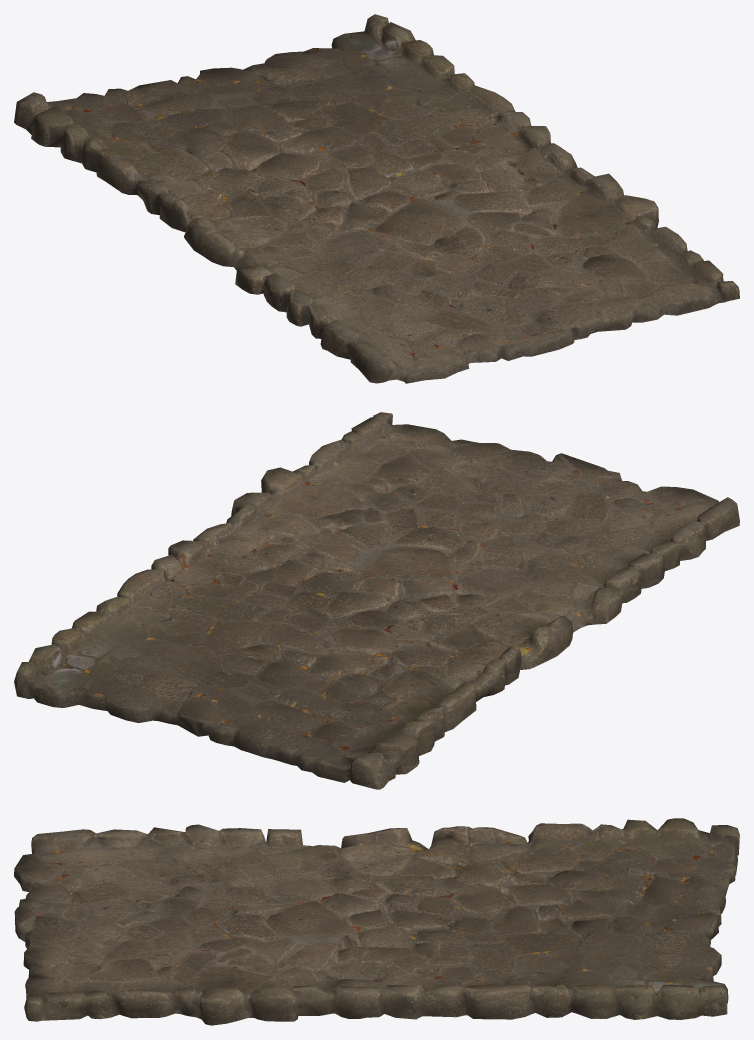
File: japanese_park_stone_floor_uljcfd0_low.glb
3 views of the same model, one above another, from view 1: azimuth 30°, elevation 25°; view 2: azimuth 150°, elevation 25°; view 3: azimuth 270°, elevation 25° (orthographic). The views are drawn at different scales.
Visible parts, largest first — view 1: uljcfd0_LOD0_TIER3_000; view 2: uljcfd0_LOD0_TIER3_000; view 3: uljcfd0_LOD0_TIER3_000.
Part boxes in pixels (x1=…): uljcfd0_LOD0_TIER3_000: x1=14, y1=14, x2=739, y2=383; uljcfd0_LOD0_TIER3_000: x1=14, y1=412, x2=739, y2=789; uljcfd0_LOD0_TIER3_000: x1=14, y1=818, x2=739, y2=1025.
Bounding box in the file's own units: 2.97 × 0.2392 × 4.98.
1 material, 1 textured.
